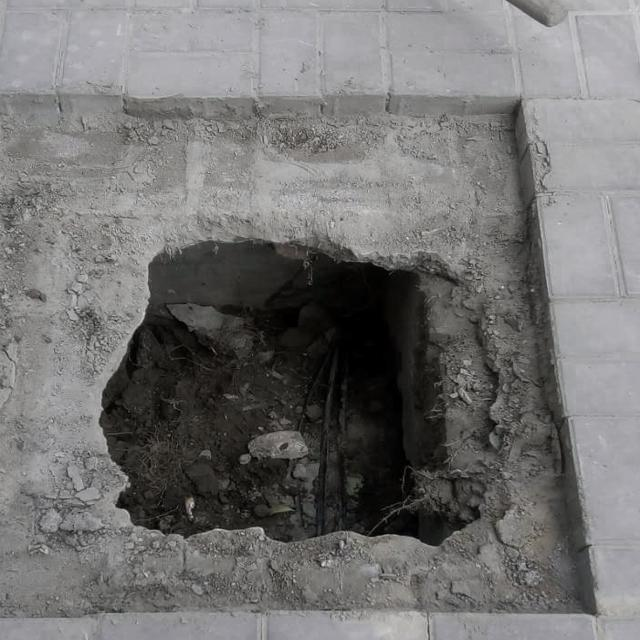lose: (0, 90, 598, 612)
